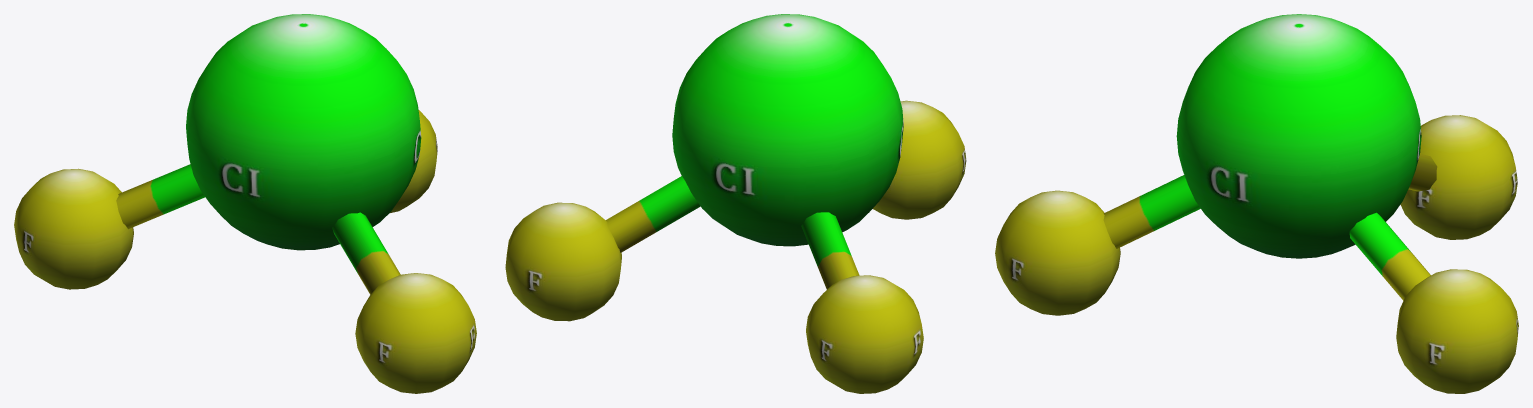
File: ClF3.dae
3 renders of one model, left to right at view 1: azimuth 30°, elevation 25°; view 2: azimuth 150°, elevation 25°; view 3: azimuth 270°, elevation 25°, orthographic. The views are drawn at different scales.
Parts seen in each view (by area): view 1: polySurface30; view 2: polySurface30; view 3: polySurface30.
Boxes of the visible parts, x1,y1,x2,y2 form: polySurface30: (14,14,476,393); polySurface30: (505,14,966,393); polySurface30: (995,14,1518,393).
Size of the model in its own units: 3.09 by 2 by 3.31.
Materials: 1 (1 with a texture image).
